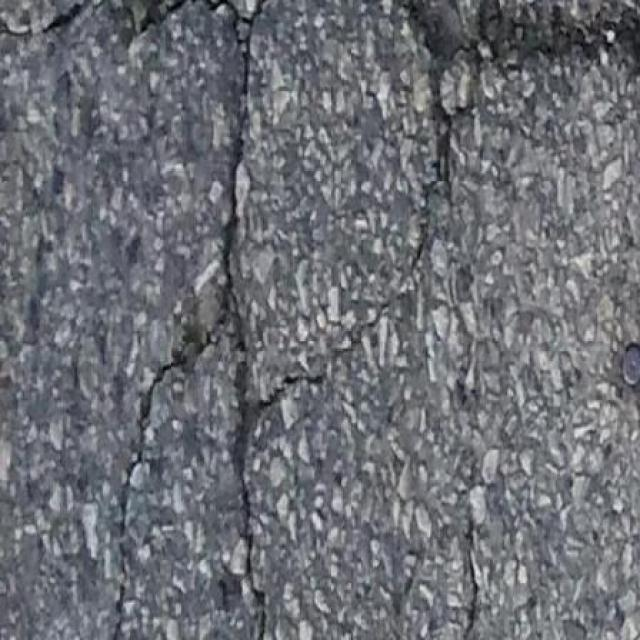Crack: (104, 0, 325, 639), (395, 0, 639, 267), (71, 0, 89, 22)
